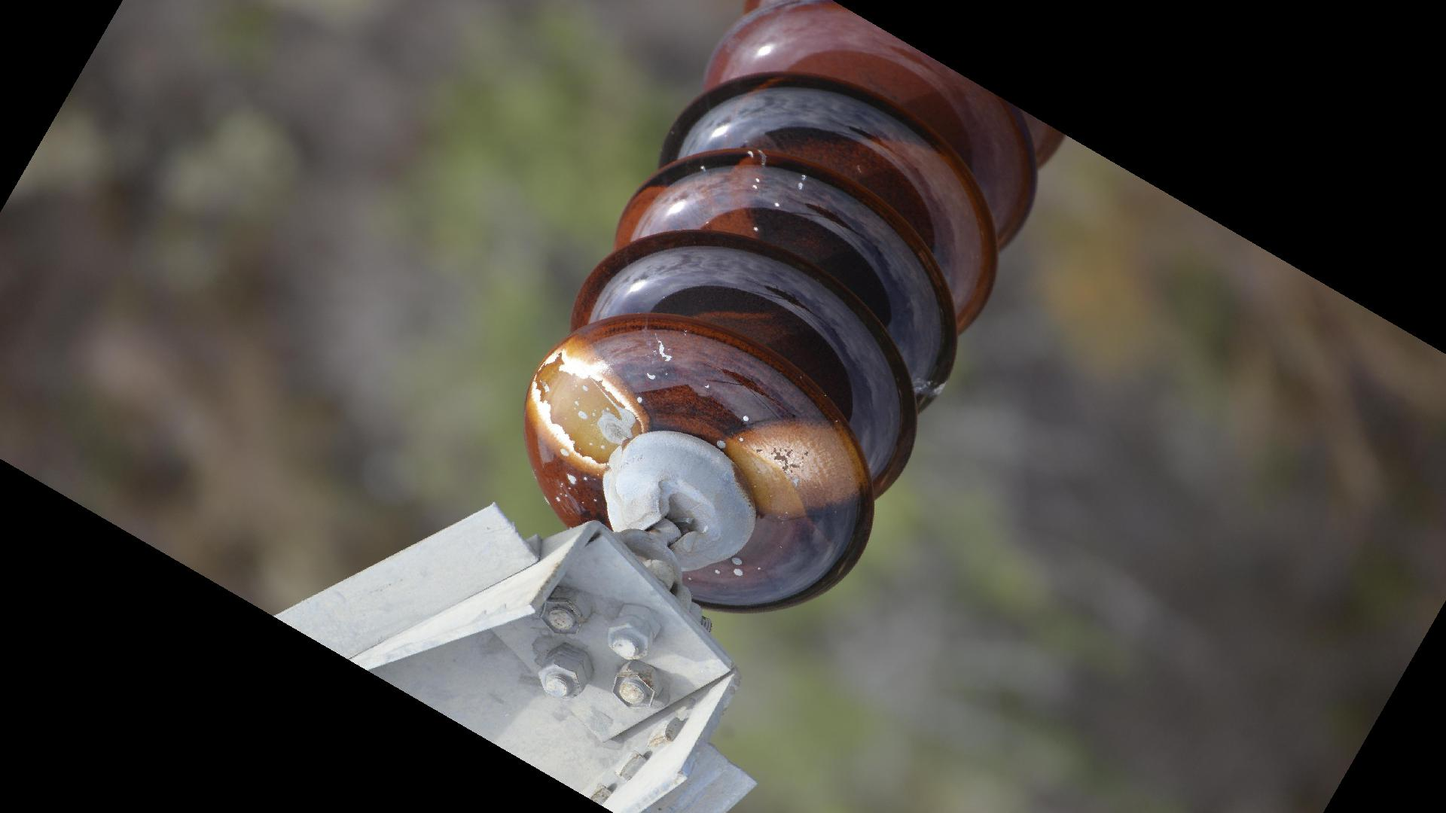insulator: (518, 1, 1065, 617)
insulator_flashover: (523, 330, 651, 474), (718, 410, 874, 522)
